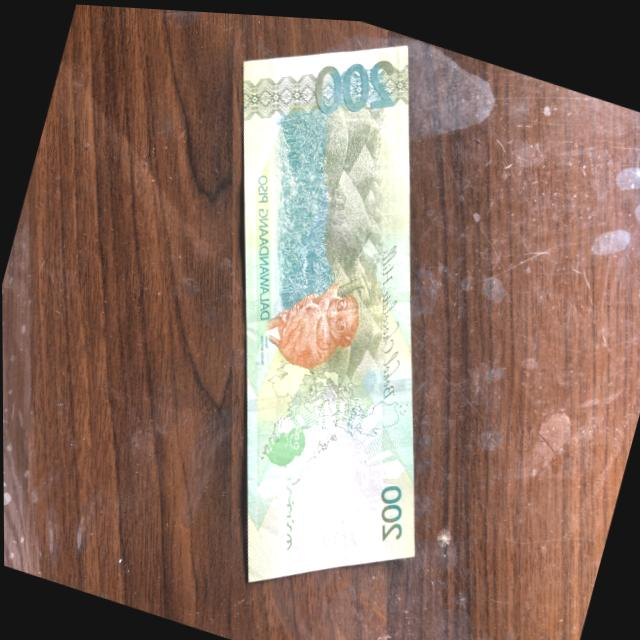200_tarsier: (225, 239, 389, 390)
200_tarsier_watermark: (246, 403, 316, 485)
value_watermark: (301, 515, 345, 555)
watermark: (274, 441, 395, 570)
